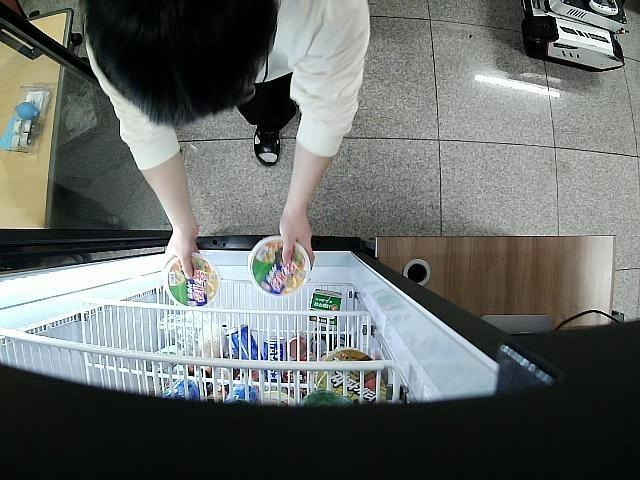09_yukGaeJang: (248, 236, 311, 298), (164, 254, 222, 309)
